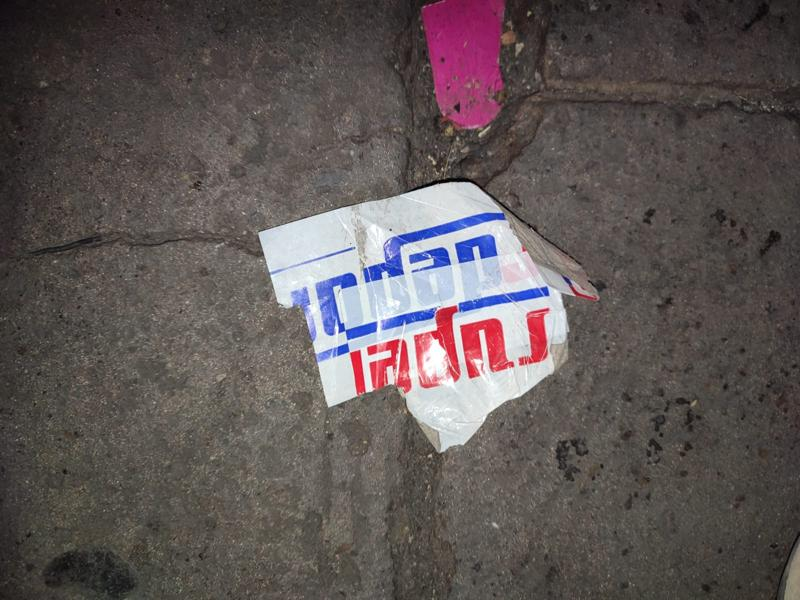papel: (257, 180, 597, 453)
